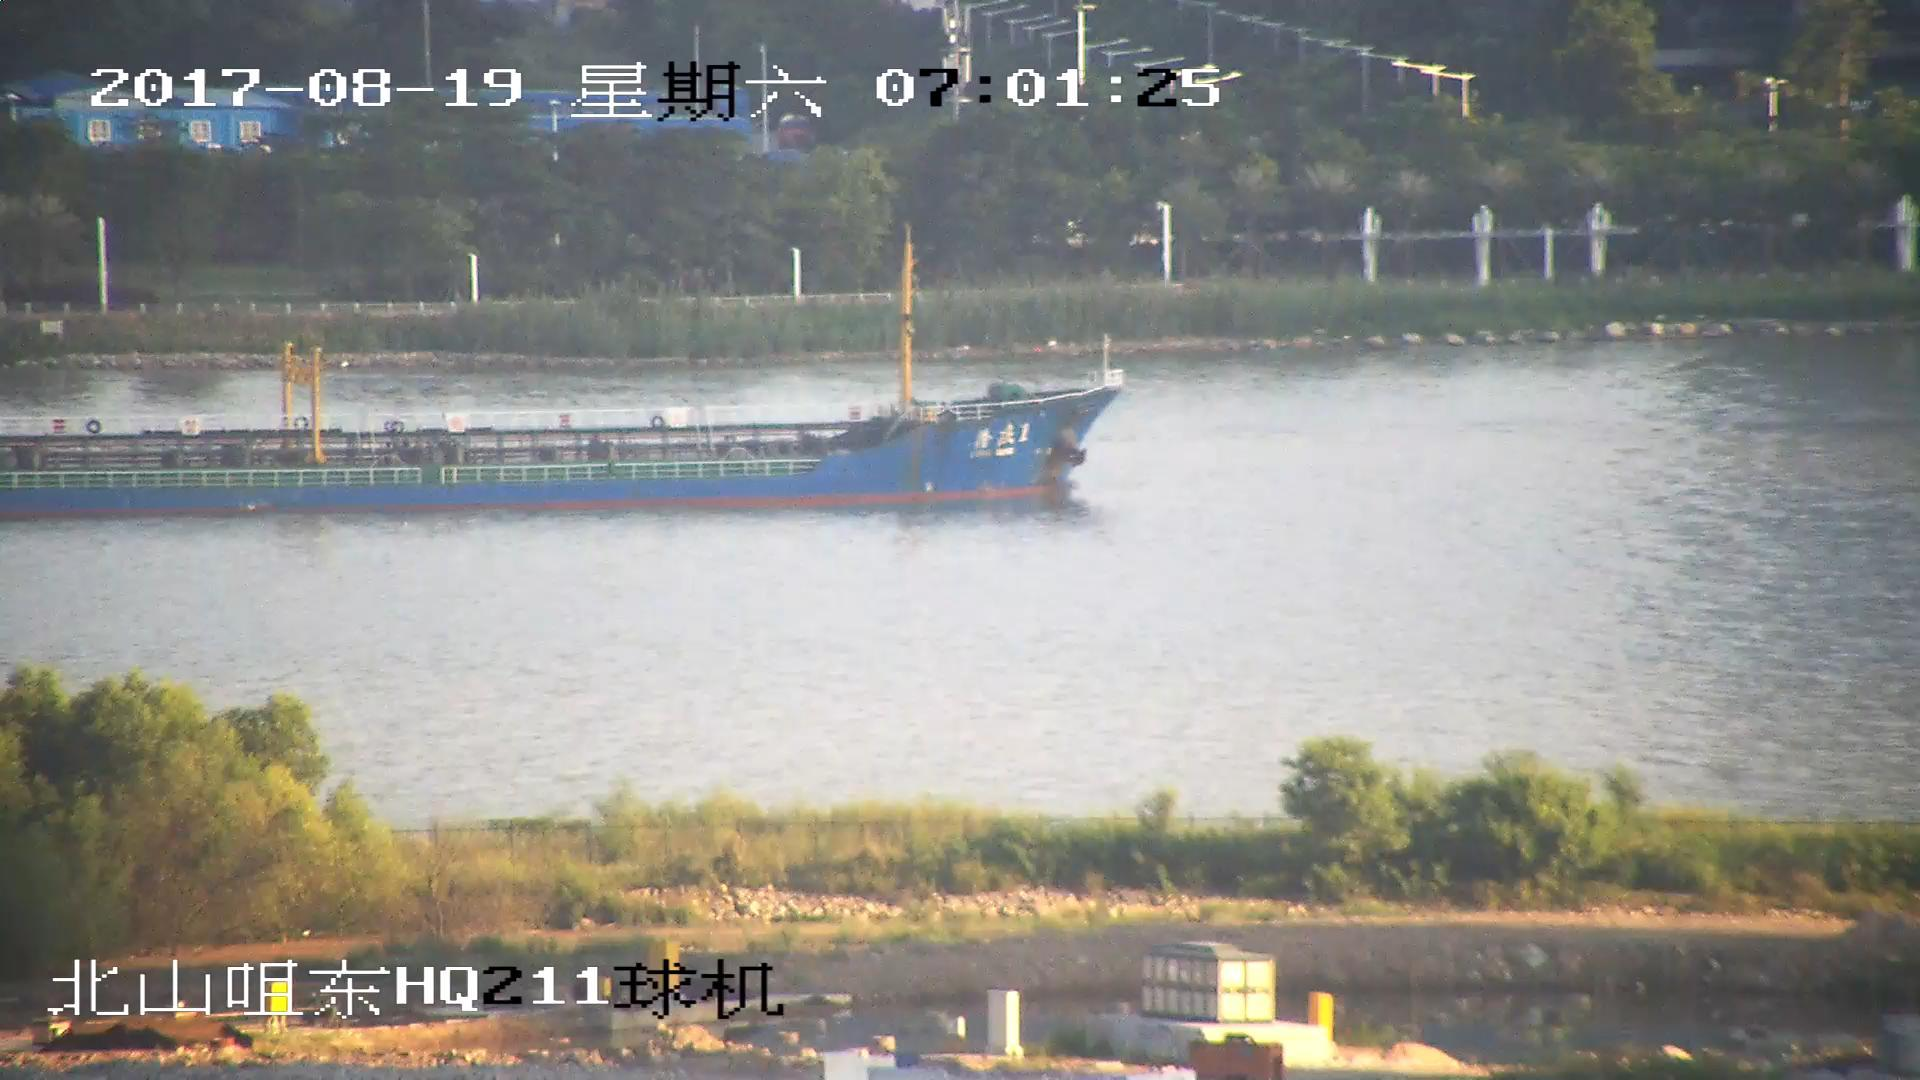Ship: (3, 258, 1114, 506)
